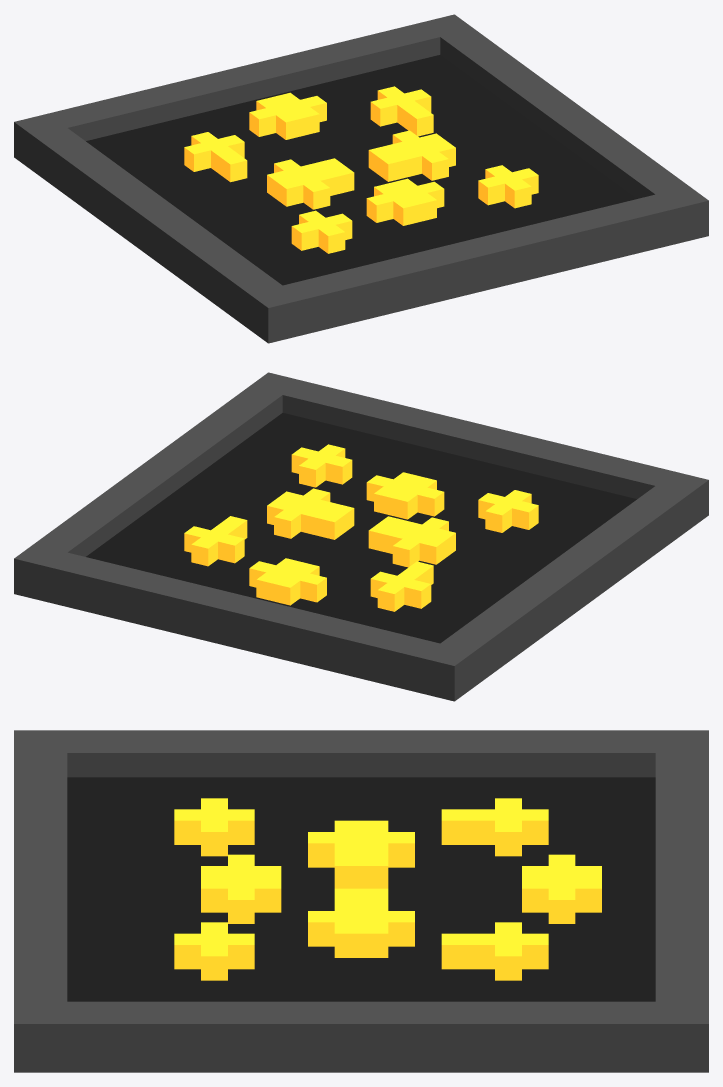
The model's file is trap_STARS_ORANGE.glb.
The picture shows the model from 3 angles, top to bottom: view 1: azimuth 30°, elevation 25°; view 2: azimuth 150°, elevation 25°; view 3: azimuth 270°, elevation 25°; orthographic projection. The views are drawn at different scales.
Parts seen in each view (by area): view 1: item_TRAP_STARS_ORANGE; view 2: item_TRAP_STARS_ORANGE; view 3: item_TRAP_STARS_ORANGE.
Boxes of the visible parts, <box> form: item_TRAP_STARS_ORANGE: <box>14,14,708,343</box>; item_TRAP_STARS_ORANGE: <box>14,372,708,701</box>; item_TRAP_STARS_ORANGE: <box>14,730,708,1072</box>.
Bounding box in the file's own units: 0.5909 × 0.0455 × 0.5909.
1 material, 1 textured.
